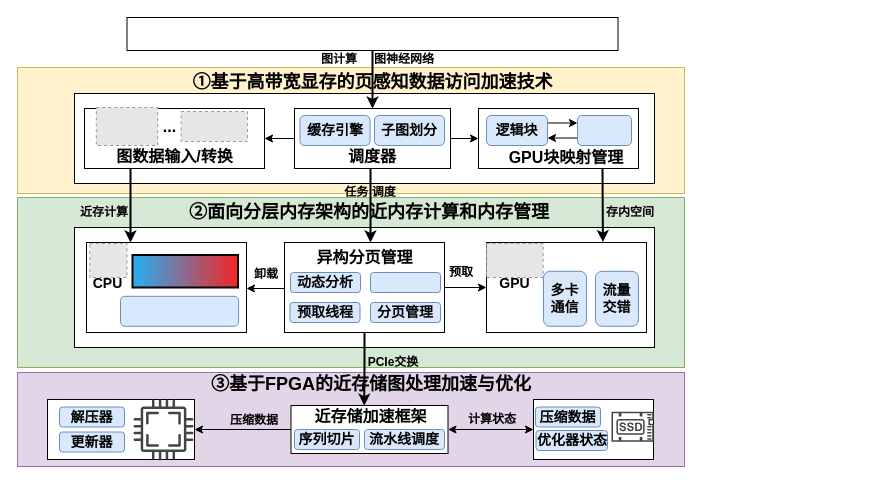
Some shapes in this 882 by 484 pixel diagram are drawn without their labels. Grey dashed boxes stand in for pictures. Here are the shapes that lost their labels. From the top down, the centre of each, then its label:
At (372,33): "动态图计算队列".
At (604,130): "物理块".
At (184,271): "页面热度管理".
At (405,282): "迁移线程".
At (179,310): "页面级图数据分配".
At (163,429): "FPGA".
